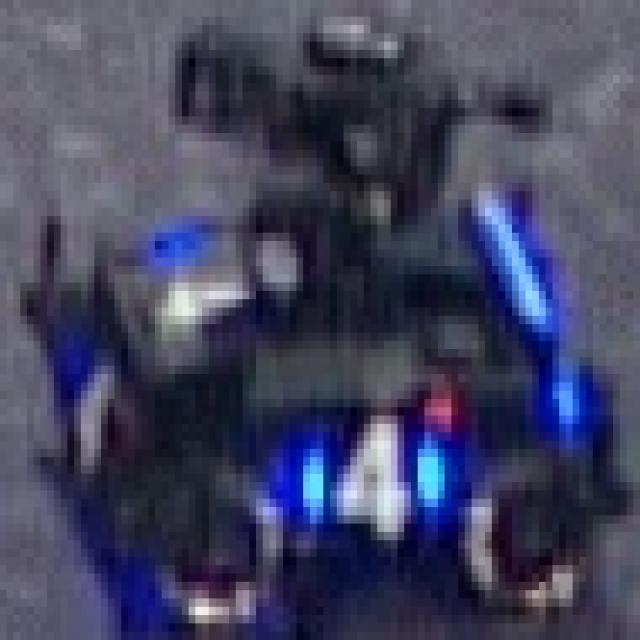B4: (283, 391, 472, 557), (128, 208, 263, 357)
